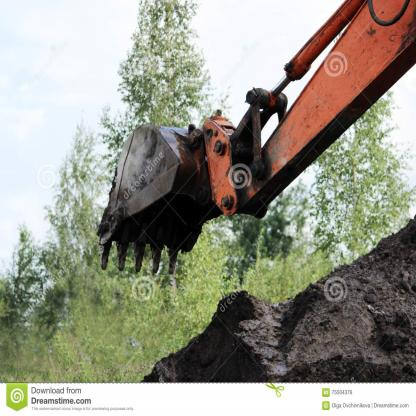excavator: (94, 1, 416, 278)
